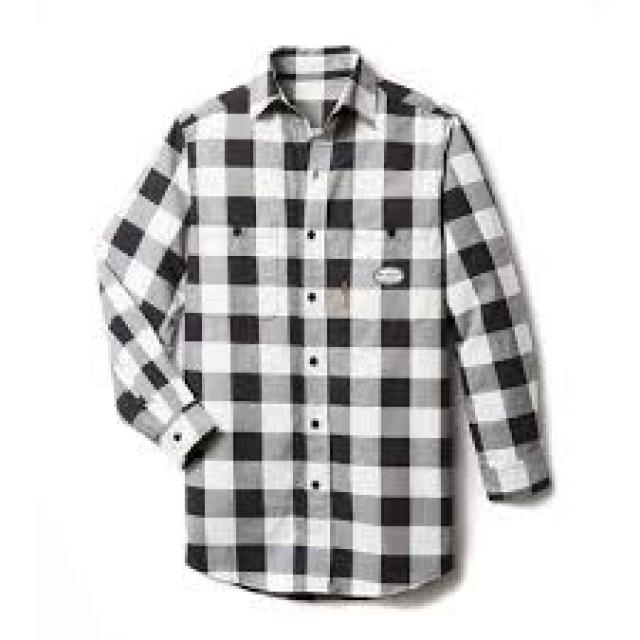plaid: (96, 40, 552, 604)
